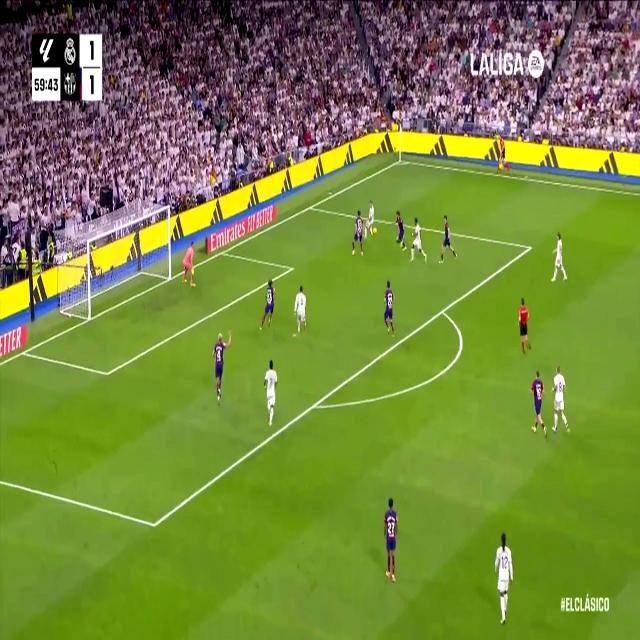bigarea_bottom_inner: (148, 509, 160, 540)
bigarea_top_inner: (524, 237, 534, 257)
bigarea_top_outter: (306, 198, 316, 214)
bottom_arc_area_intersection: (309, 392, 321, 418)
smallarea_bottom_inner: (102, 362, 112, 384)
smallarea_bottom_outter: (20, 344, 28, 360)
smallarea_top_inner: (287, 260, 295, 276)
smallarea_top_outter: (218, 246, 226, 259)
top_arc_area_intersection: (438, 299, 448, 321)
